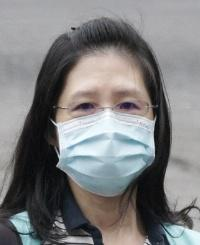OK: (58, 73, 156, 198)
